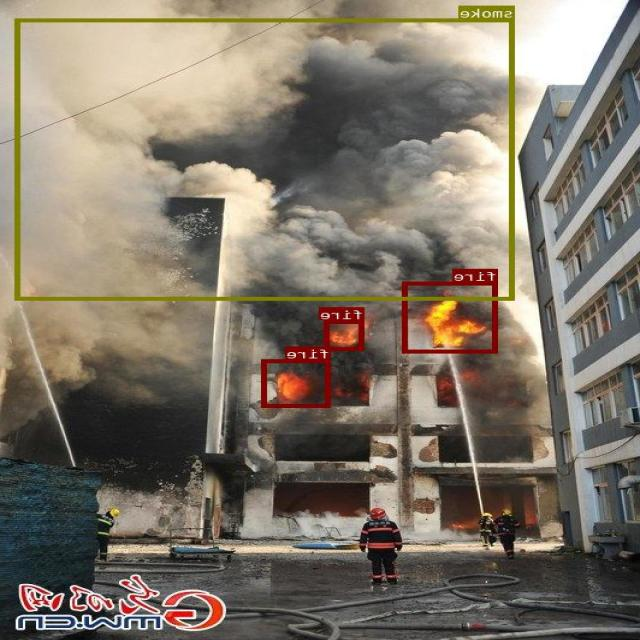fire: (404, 281, 499, 353), (264, 358, 332, 406), (326, 319, 366, 350)
smoke: (17, 18, 515, 299)
